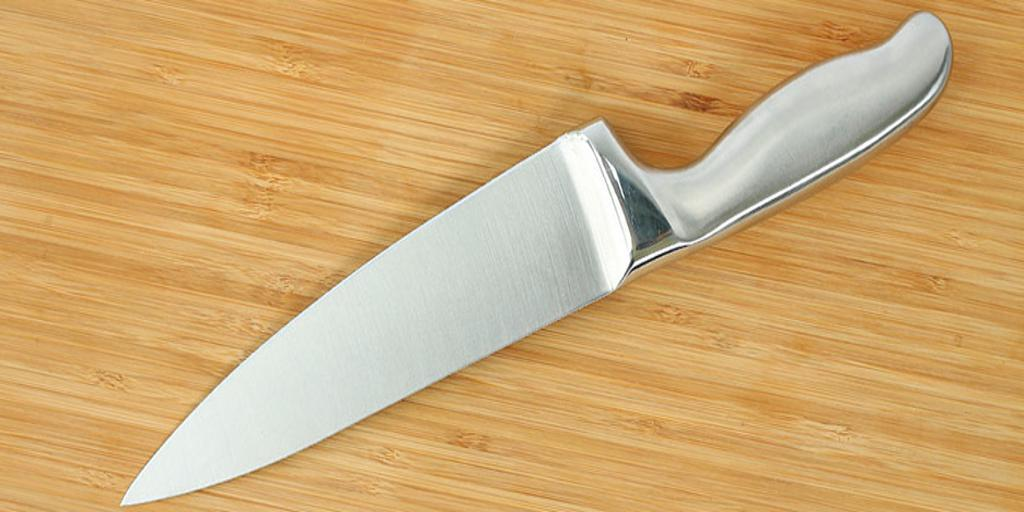knife: (123, 10, 955, 504)
